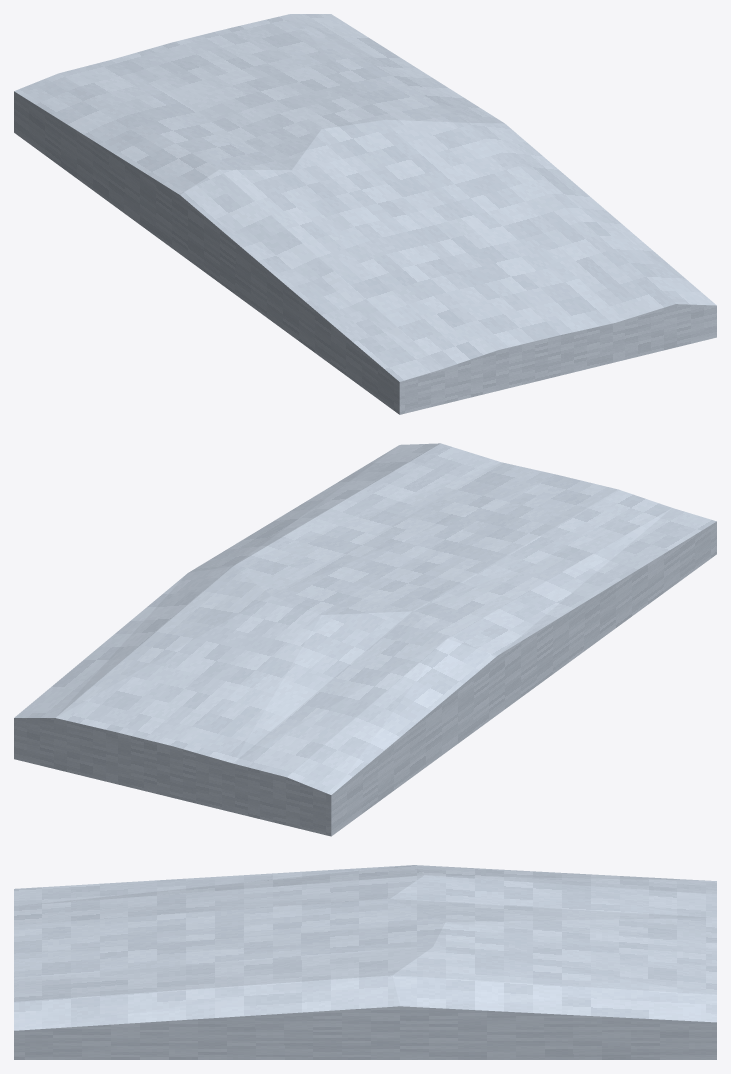
The model's file is snow_stair_edge.glb.
3 views of the same model, one above another, from view 1: azimuth 30°, elevation 25°; view 2: azimuth 150°, elevation 25°; view 3: azimuth 270°, elevation 25° (orthographic). The views are drawn at different scales.
Visible parts, largest first — view 1: snow_stair_edge; view 2: snow_stair_edge; view 3: snow_stair_edge.
Boxes of the visible parts, box(x1,y1,x2,y2) form: snow_stair_edge: box(14, 14, 716, 414); snow_stair_edge: box(14, 443, 716, 836); snow_stair_edge: box(14, 865, 716, 1059).
Size of the model in its own units: 0.38 by 0.085 by 0.8.
1 material, 1 textured.
